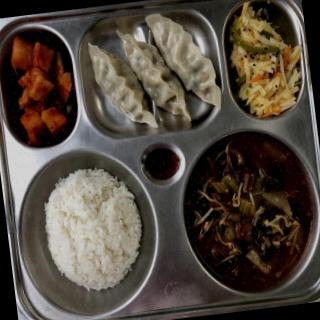Nasi: (38, 162, 153, 303)
